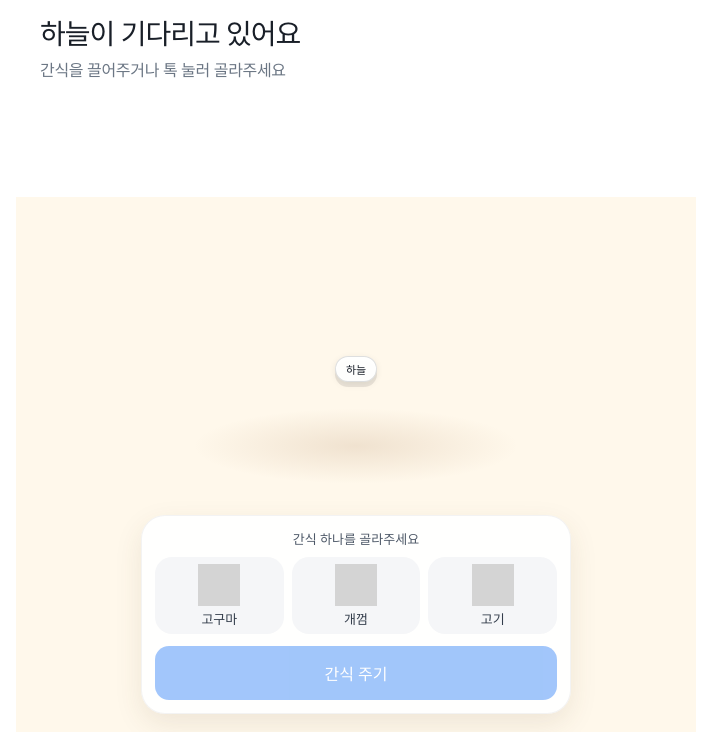
Test: PlayScene treat authorization › stops promising an ad after a ticket is confirmed but still checks authorization when giving
Click the button with aria-label "고구마 간식" at (219, 596), box [155,557,284,634]
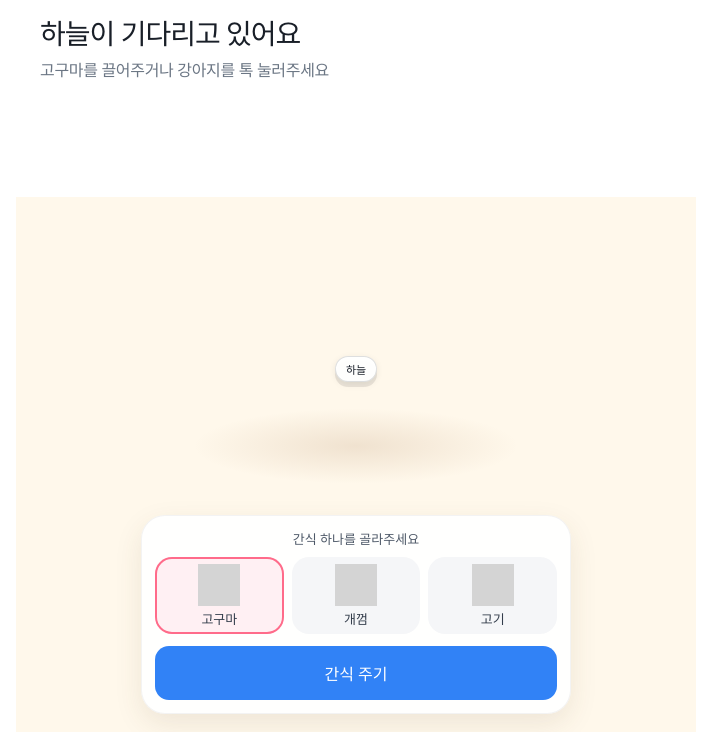
Check: the text "고구마를 끌어주거나 강아지를 톡 눌러주세요" is shown, box [40,59,329,81]
Click the button "간식 주기" at (356, 673), box [155,646,557,700]
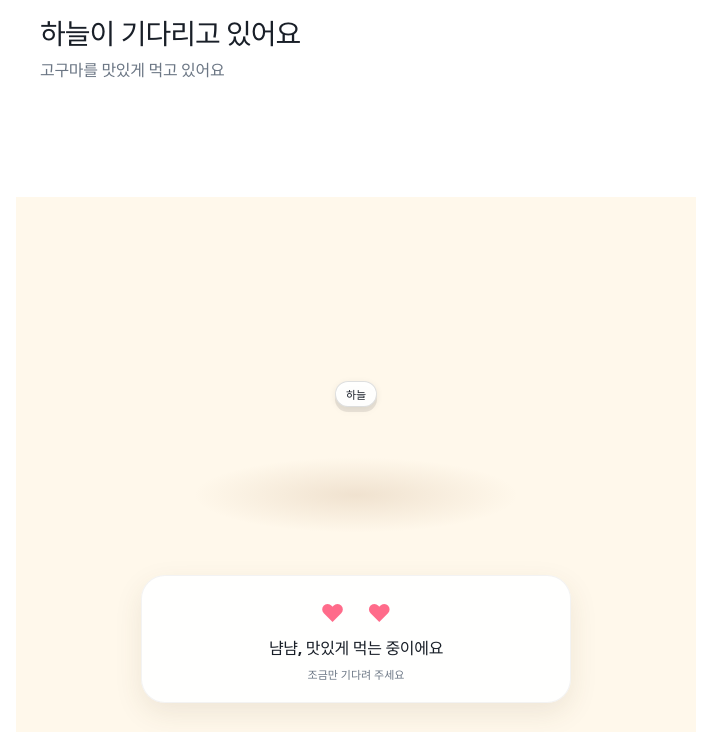
Check: the text "냠냠, 맛있게 먹는 중이에요" is shown, box [269,635,443,659]
